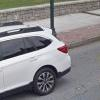Car: (0, 14, 79, 99)
